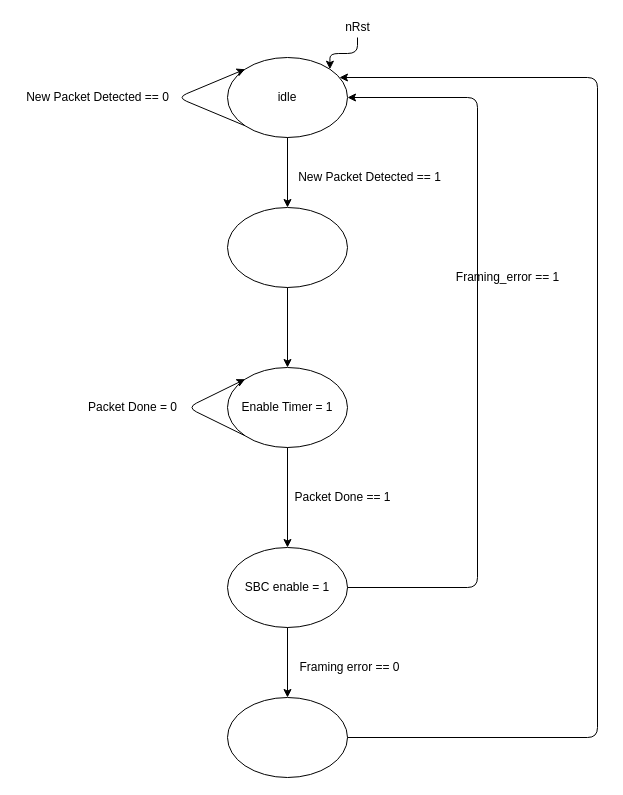
The diagram is 623 pixels wide and 795 high, and some of its shapes have lost their labels. The shapes that lost their labels are listed below. From the top down, each one's centre as x and y in pixels, then its label:
pixel 287 247: SBC clear = 1
pixel 287 737: load Buffer = 1
